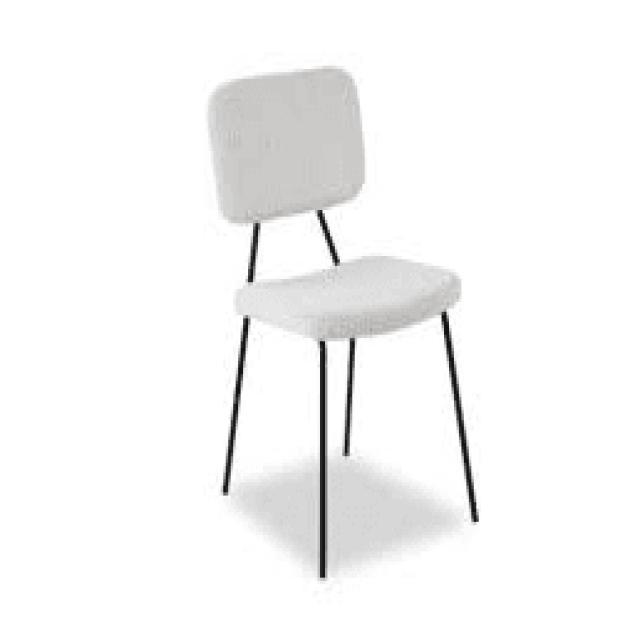chair: (202, 59, 480, 580), (214, 83, 452, 324)
